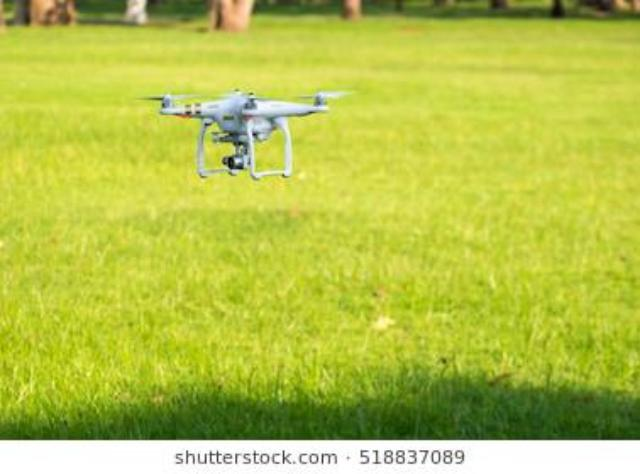drone: (124, 55, 368, 200)
